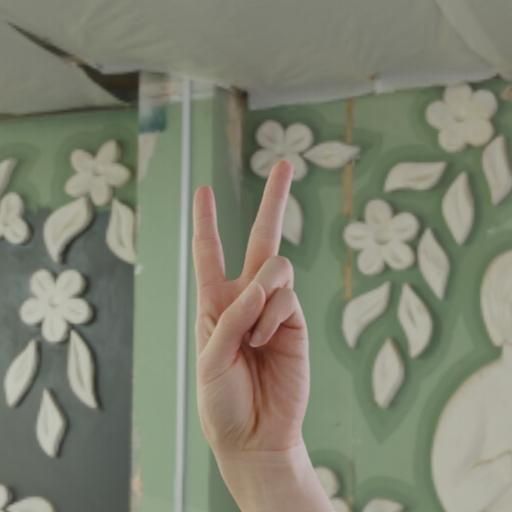V: (180, 155, 314, 453)
